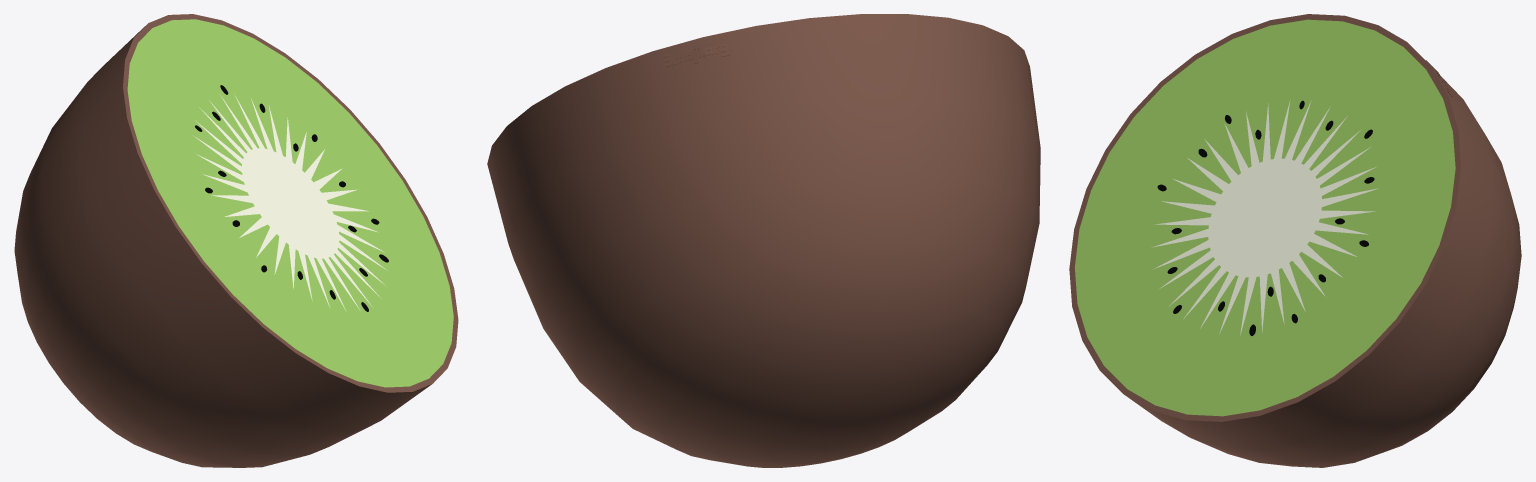
File: kiwi_fruit.fbx
3 views of the same model, side by side, from view 1: azimuth 30°, elevation 25°; view 2: azimuth 150°, elevation 25°; view 3: azimuth 270°, elevation 25° (orthographic). The views are drawn at different scales.
Visible parts, largest first — view 1: Sphere.480; view 2: Sphere.480; view 3: Sphere.480.
Boxes of the visible parts, x1,y1,x2,y2 form: Sphere.480: (14,14,458,467); Sphere.480: (487,14,1040,467); Sphere.480: (1069,14,1521,467).
Bounding box in the file's own units: 221 × 212 × 221.
Materials: 1 (1 with a texture image).
